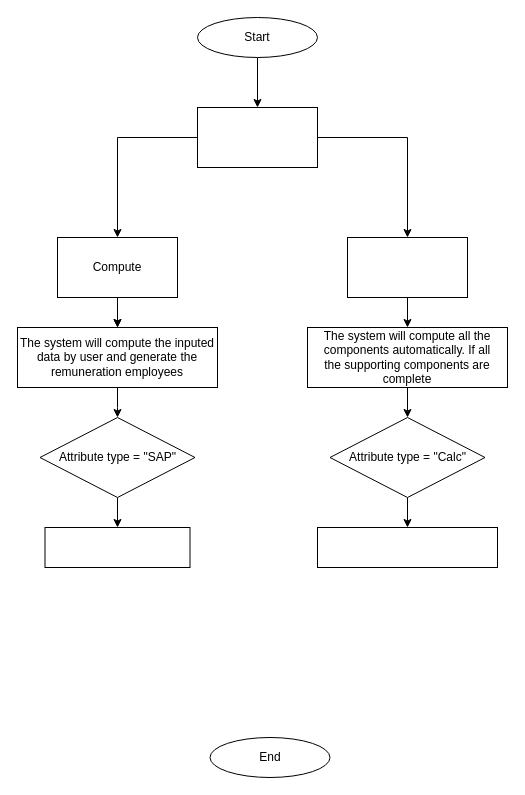
This 525x795 diagram has some shape labels left out. The centre of each missing label's shape, as x and y in pixels:
Compute Eligible: (x=407, y=267)
Create Remuneration Employees: (x=257, y=137)
Process Data from SAP: (x=117, y=547)
Process the Data automatically: (x=407, y=547)
